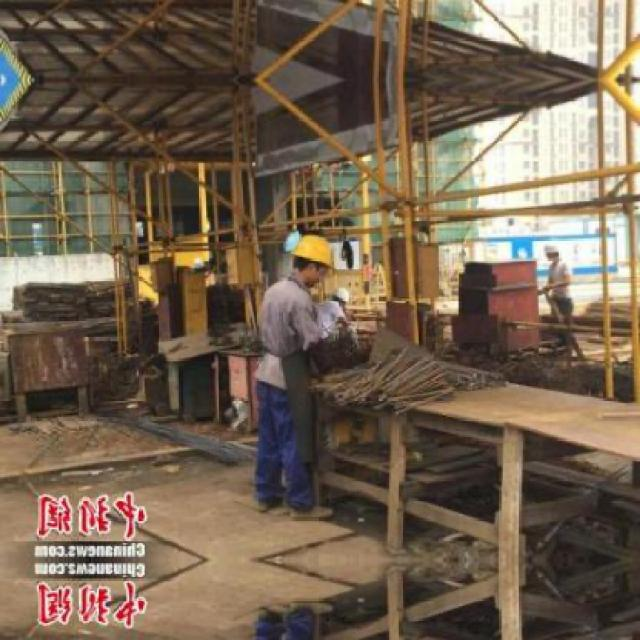helmet: (291, 232, 332, 285), (332, 286, 354, 309), (544, 242, 564, 258)
